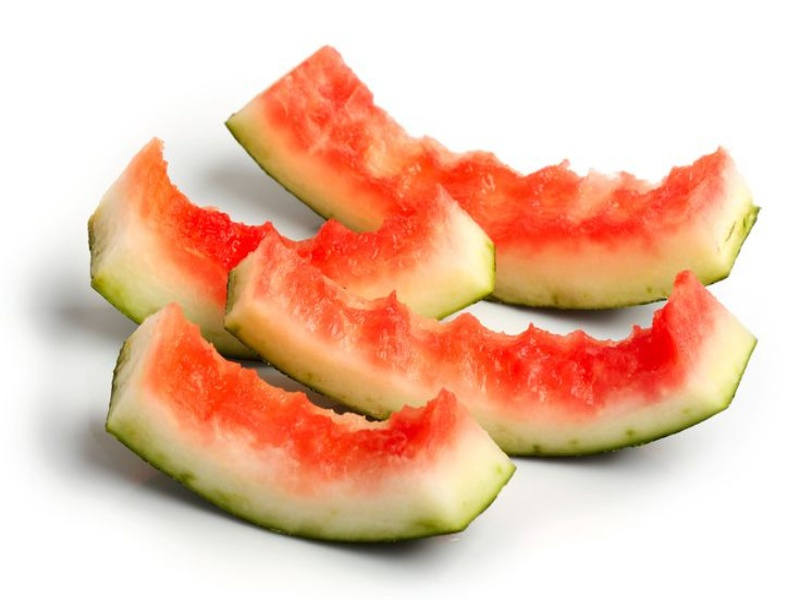Watermelon_rind_BioD: (46, 27, 774, 561)
